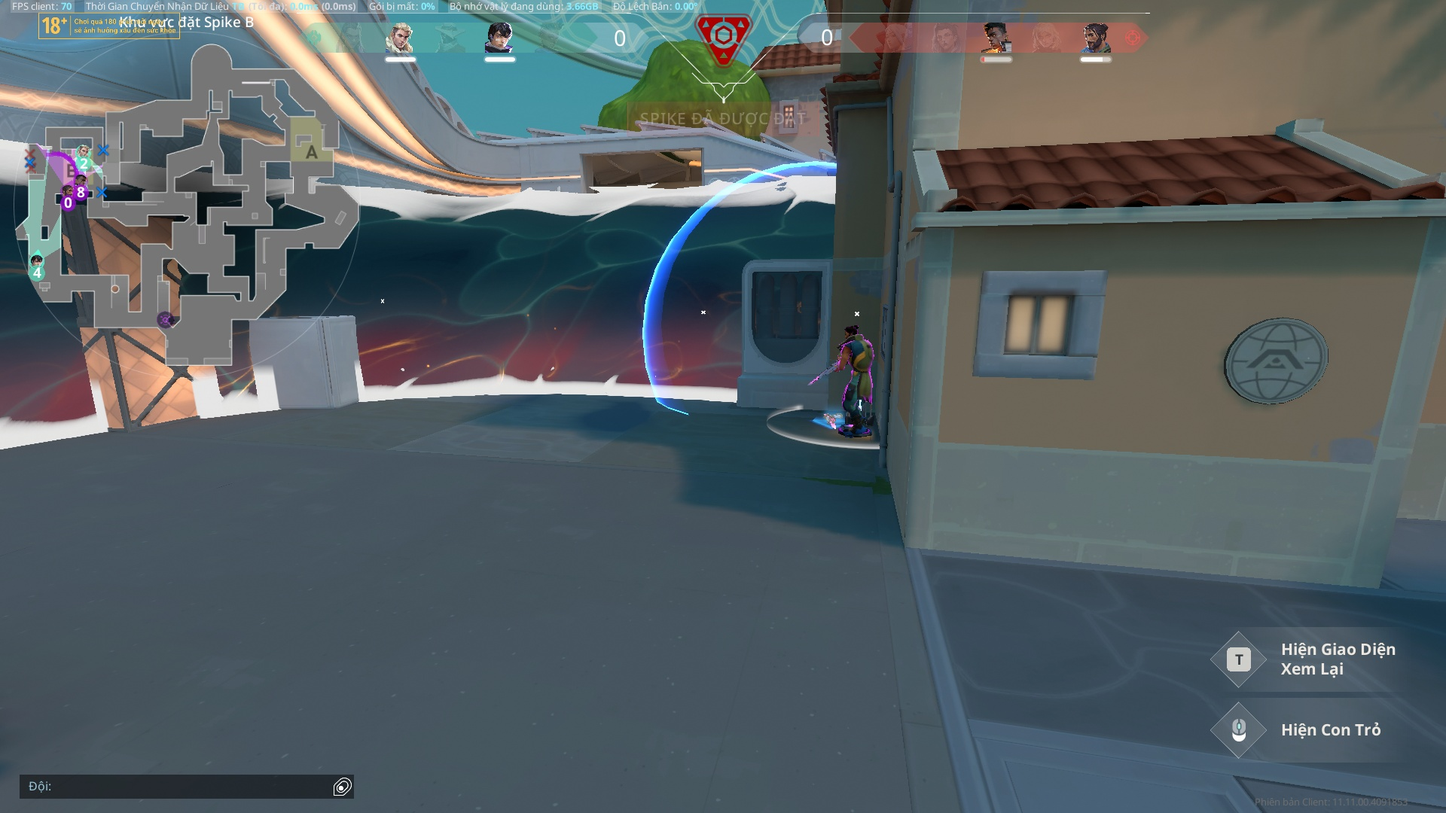body: (841, 336, 874, 371)
head: (843, 325, 859, 339)
